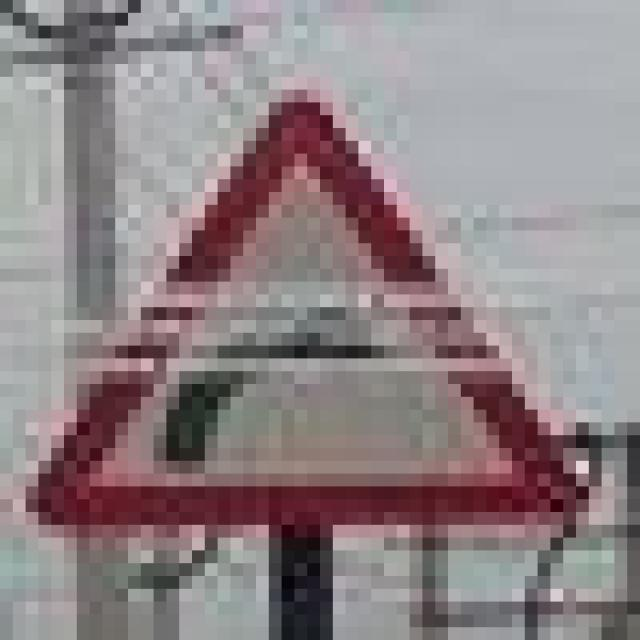RIGHT_HAND_CURVE: (0, 77, 576, 525)
